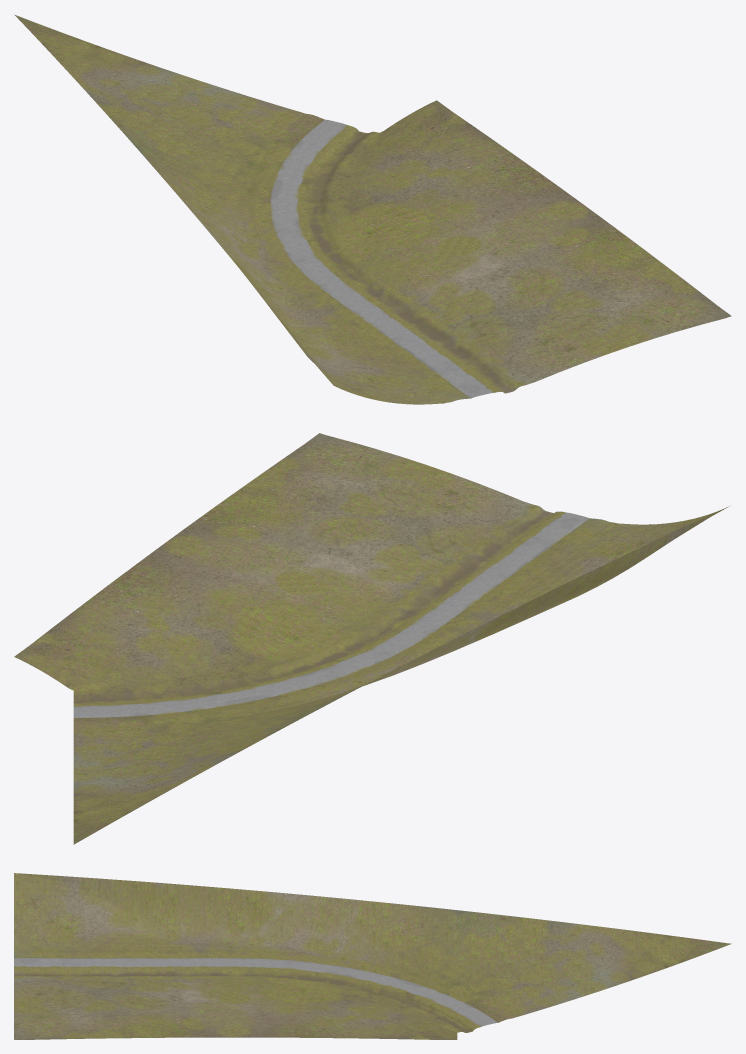
File: terrenoniveluno.glb
The picture shows the model from 3 angles, top to bottom: view 1: azimuth 30°, elevation 25°; view 2: azimuth 150°, elevation 25°; view 3: azimuth 270°, elevation 25°; orthographic projection. The views are drawn at different scales.
Parts seen in each view (by area): view 1: Object_2; view 2: Object_2; view 3: Object_2.
Part boxes in pixels (left/top/right/bottom): Object_2: left=14, top=14, right=731, bottom=404; Object_2: left=14, top=433, right=729, bottom=844; Object_2: left=14, top=873, right=731, bottom=1039.
Bounding box in the file's own units: 82.04 × 10.32 × 170.
Materials: 1 (1 with a texture image).
